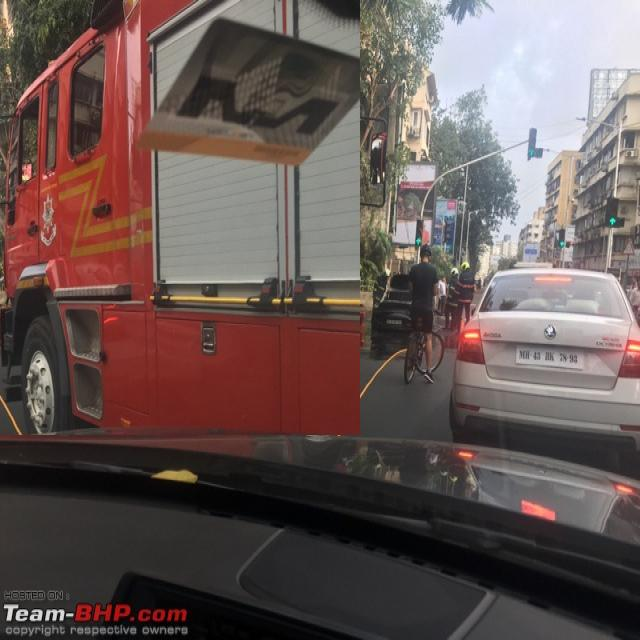car: (454, 270, 640, 446)
emergency: (0, 0, 360, 435)
